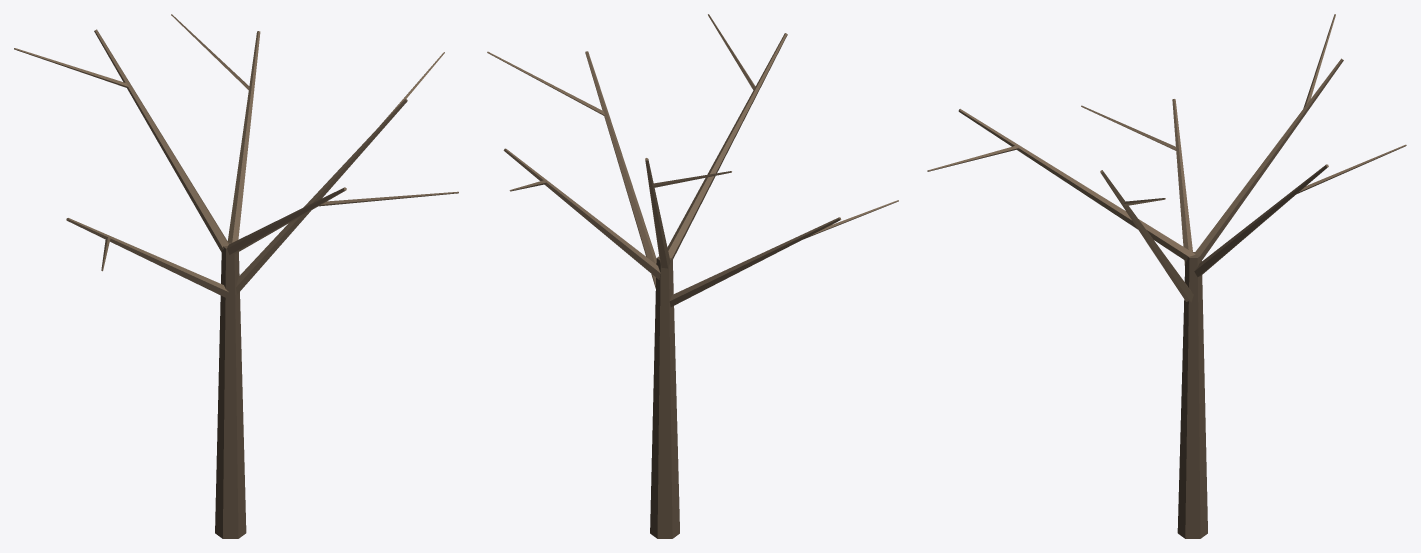
The model's file is columnar-v0-winter.glb.
3 renders of one model, left to right at view 1: azimuth 30°, elevation 25°; view 2: azimuth 150°, elevation 25°; view 3: azimuth 270°, elevation 25°, orthographic. The views are drawn at different scales.
Parts seen in each view (by area): view 1: columnar_v0; view 2: columnar_v0; view 3: columnar_v0.
Boxes of the visible parts, box(x1,y1,x2,y2) form: columnar_v0: box(14, 14, 458, 538); columnar_v0: box(487, 14, 898, 538); columnar_v0: box(927, 14, 1406, 538).
Size of what is drawn, in the model's own units: 7.39 by 8.52 by 8.19.
